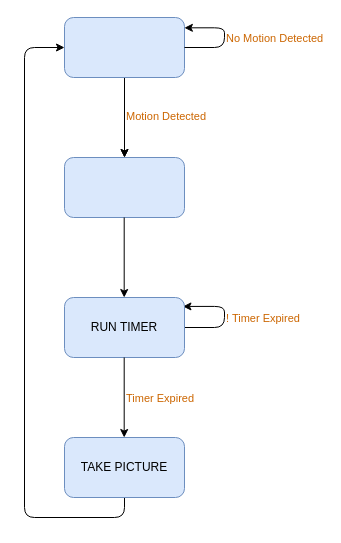
The diagram is 341 pixels wide and 543 high, and some of its shapes have lost their labels. The shapes that lost their labels are listed below. From the top down, each one's centre as x and y in pixels, then its label:
(x=124, y=47): STILL (wait for motion)
(x=124, y=187): INITIALIZE TIMER
